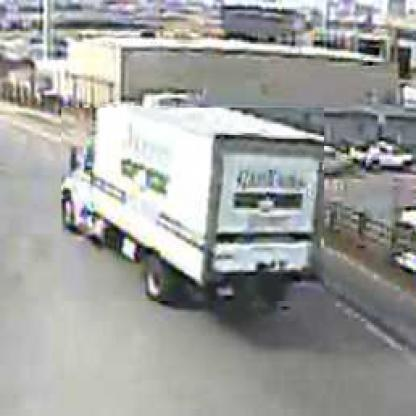truck: (62, 109, 327, 304)
